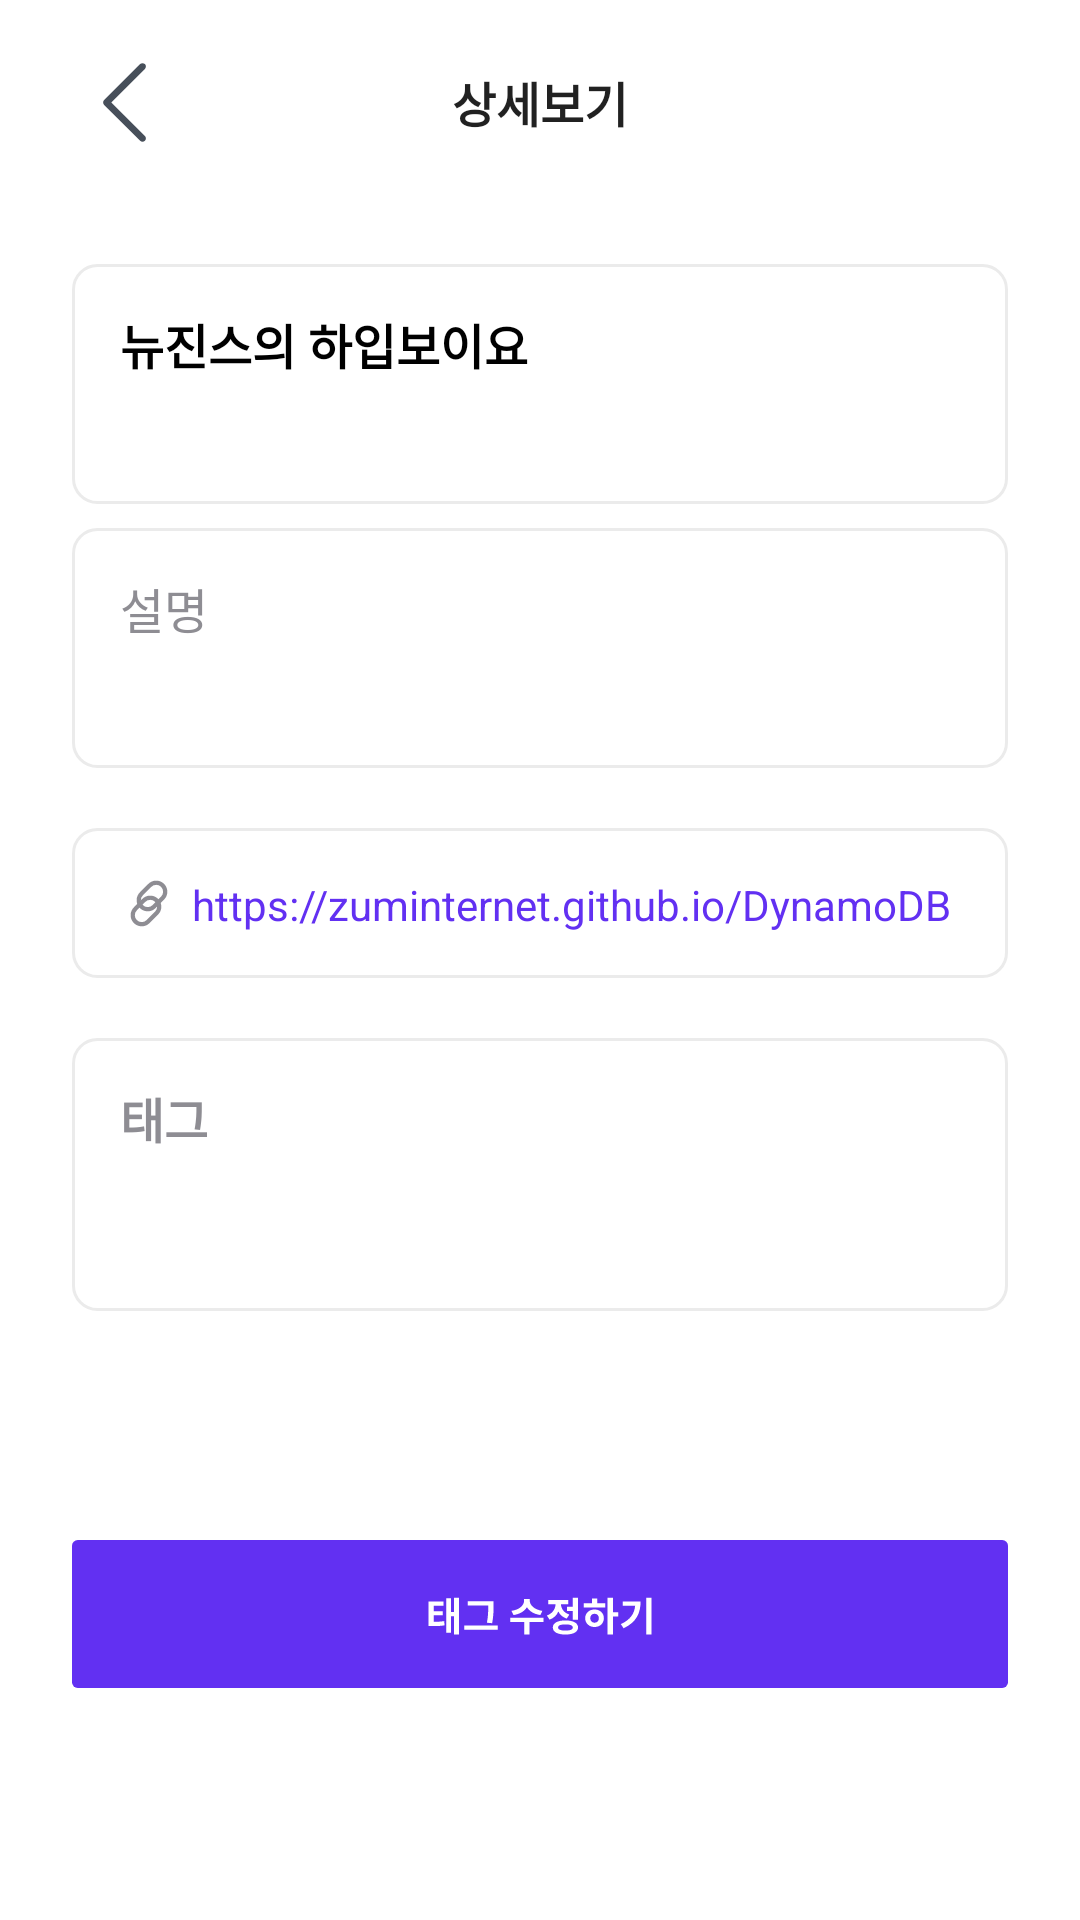

Where to tap for icons on this 1080 × 1920 app screen, as (x=x, y=y):
arrow back: (x=124, y=102)
링크: (x=149, y=903)
